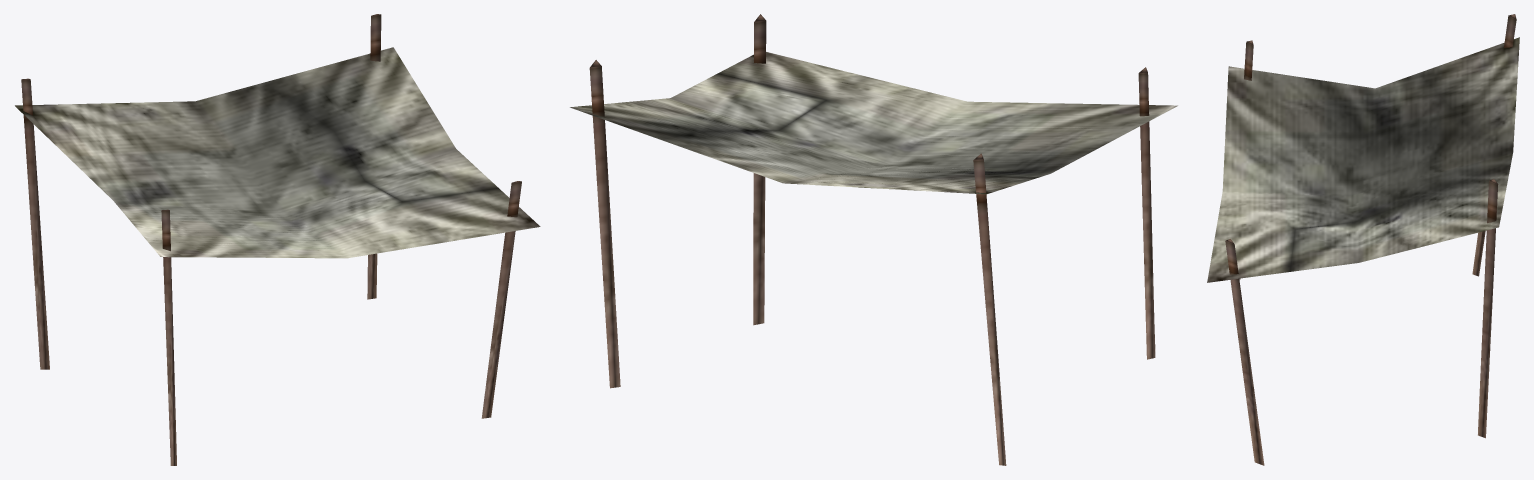
Rendered from peng03.obj.
3 renders of one model, left to right at view 1: azimuth 30°, elevation 25°; view 2: azimuth 150°, elevation 25°; view 3: azimuth 270°, elevation 25°, orthographic. The views are drawn at different scales.
Visible parts, largest first — view 1: peng03; view 2: peng03; view 3: peng03.
Part boxes in pixels (box(x1,y1,x2,y2)): peng03: box(15, 14, 540, 465); peng03: box(570, 14, 1177, 465); peng03: box(1207, 14, 1519, 465).
Bounding box in the file's own units: 122 × 99.51 × 93.51.
